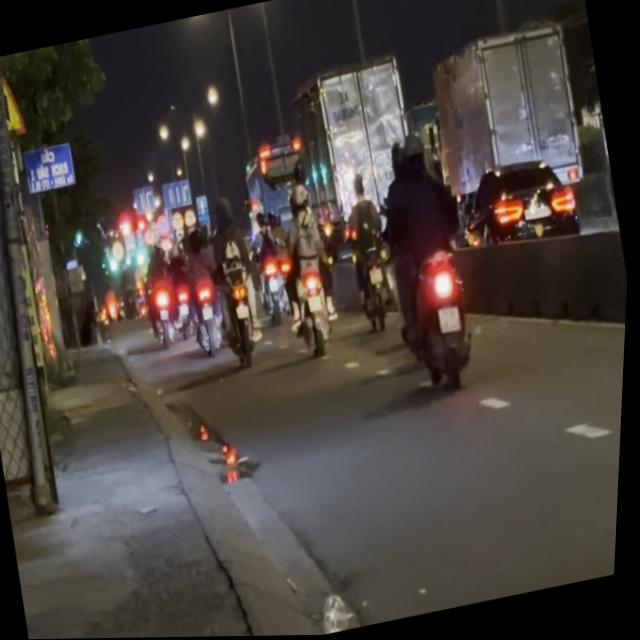helmet: (401, 128, 431, 171)
licenseplate: (361, 120, 498, 400)
nohelmet: (439, 304, 465, 334)
